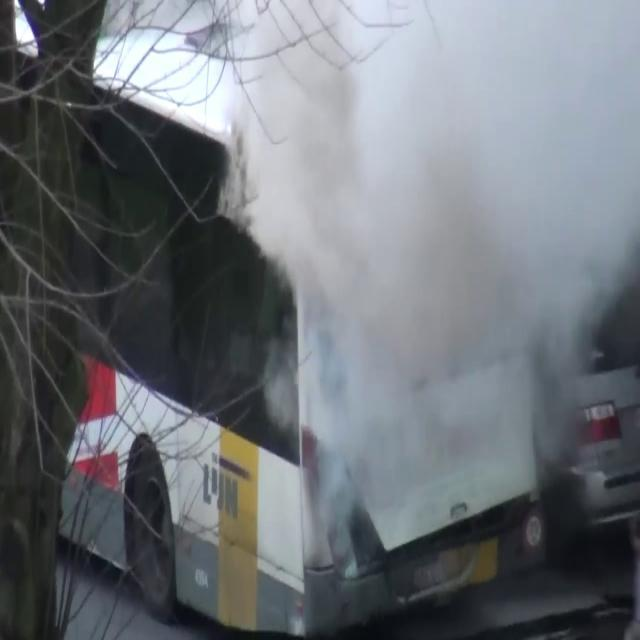Smoke: (220, 0, 640, 529)
